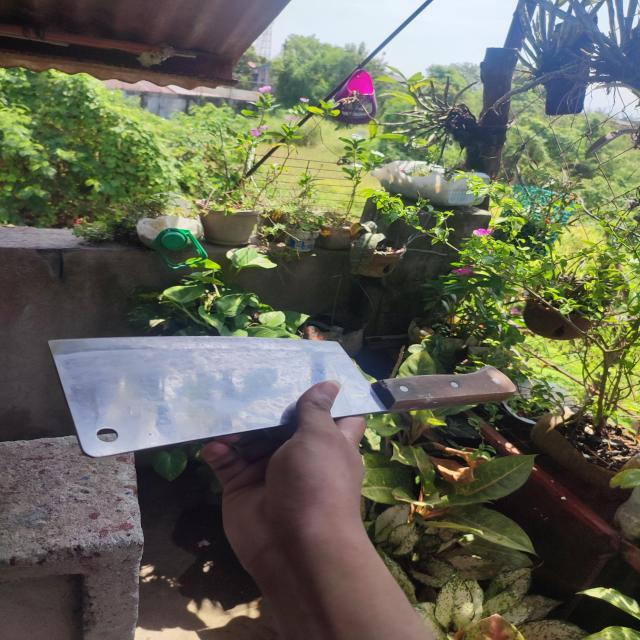knife: (48, 336, 516, 457)
